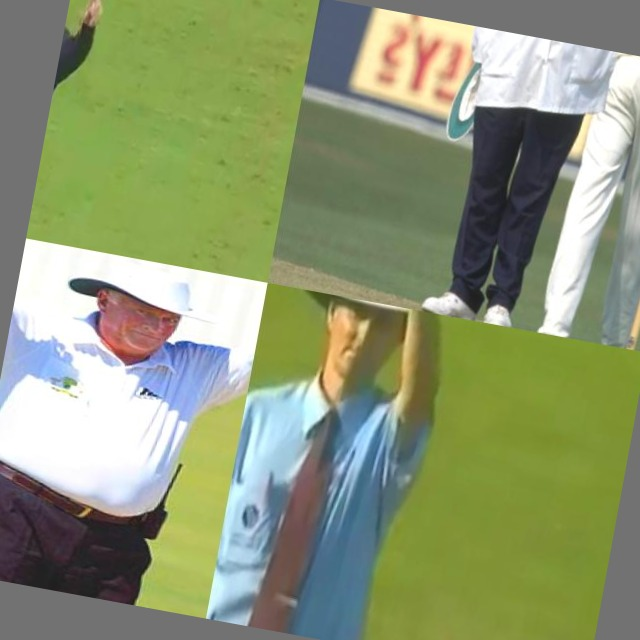Out: (206, 283, 479, 640), (389, 20, 640, 353), (26, 0, 156, 253)
Six: (0, 239, 268, 619)
